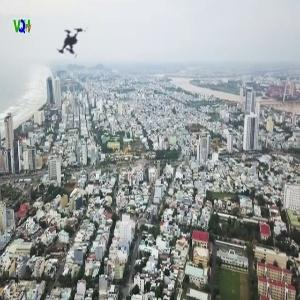drone: (40, 11, 104, 75)
